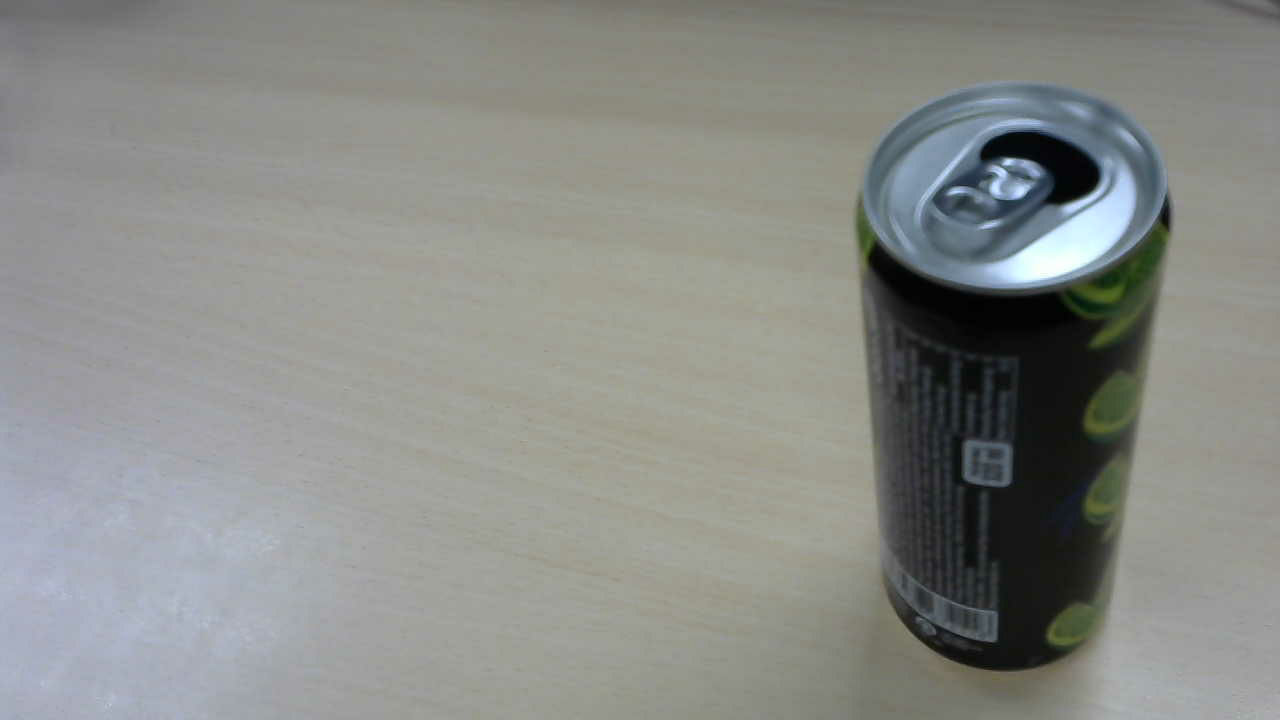Pepsi: (852, 86, 1185, 675)
